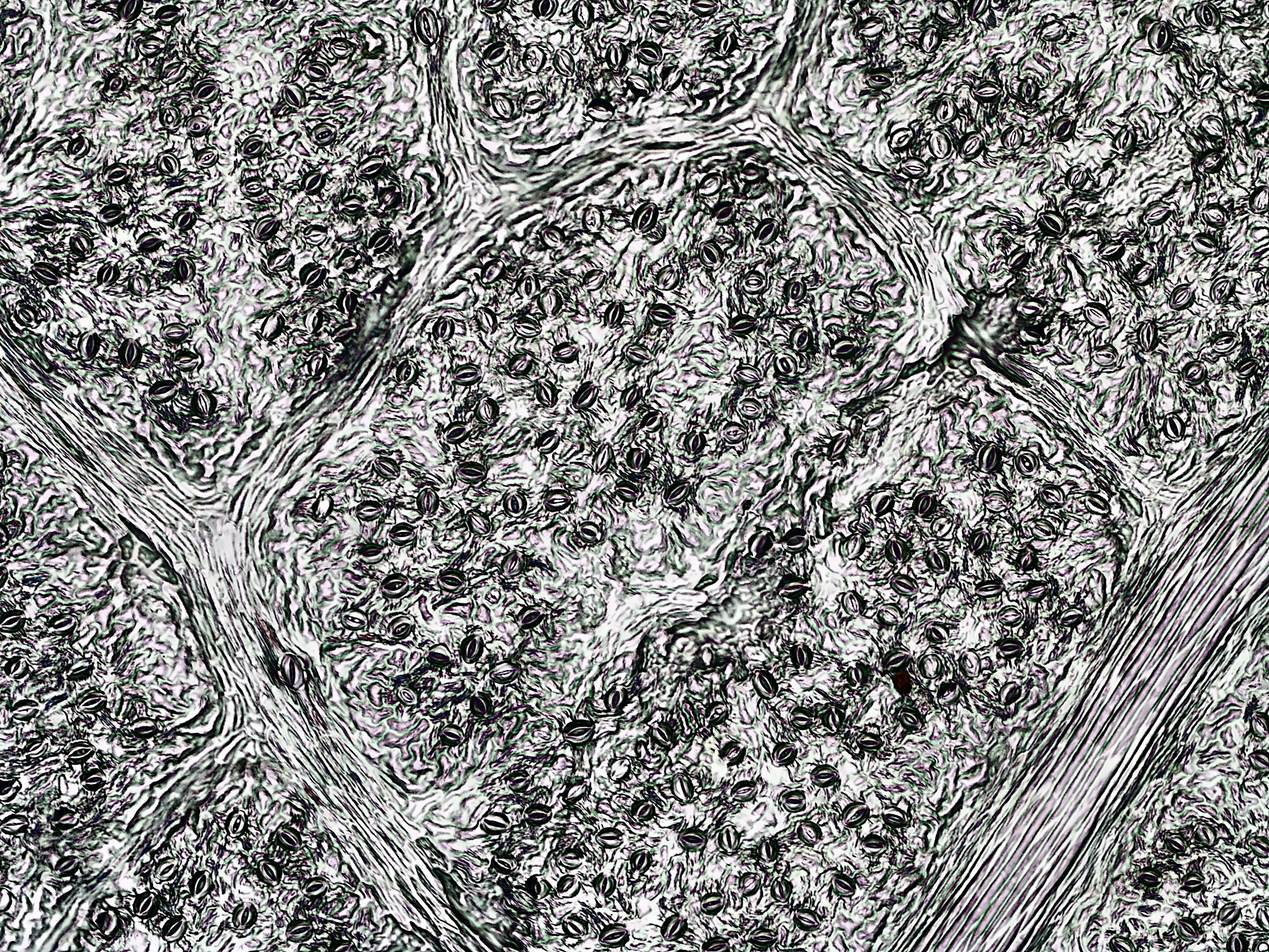stomata: (413, 7, 439, 47), (281, 651, 306, 690), (538, 223, 571, 251), (776, 574, 811, 600), (742, 529, 772, 559), (644, 301, 677, 328), (189, 388, 217, 419), (958, 132, 986, 163), (633, 202, 659, 235), (466, 508, 494, 538), (930, 94, 958, 124), (414, 484, 441, 515), (1161, 409, 1187, 441), (1199, 0, 1224, 33), (1151, 21, 1175, 55), (575, 516, 603, 545), (380, 571, 409, 599), (256, 859, 283, 889), (658, 914, 688, 941), (489, 660, 520, 686), (925, 126, 948, 161), (555, 874, 580, 906), (151, 2, 184, 26), (977, 439, 1001, 472), (436, 568, 470, 591), (1171, 279, 1194, 313), (97, 70, 127, 96), (259, 311, 285, 341), (502, 550, 528, 580), (232, 902, 258, 932), (522, 43, 547, 74), (561, 719, 593, 743), (846, 290, 879, 313), (225, 807, 248, 840), (297, 260, 325, 287), (586, 97, 613, 125), (831, 333, 858, 361), (429, 315, 456, 343), (160, 914, 186, 943), (810, 762, 839, 788), (480, 261, 510, 286), (10, 696, 40, 721), (574, 381, 598, 412), (1, 812, 33, 835), (1142, 202, 1174, 225), (119, 338, 143, 368), (300, 875, 330, 899), (158, 60, 189, 83), (30, 262, 61, 285), (76, 692, 107, 715), (930, 0, 961, 23), (633, 844, 655, 876), (1197, 149, 1224, 175), (1179, 358, 1205, 385), (841, 801, 868, 827), (782, 275, 807, 303), (1130, 259, 1155, 287), (769, 740, 797, 765), (512, 315, 541, 339), (518, 93, 551, 114), (481, 43, 511, 66), (584, 203, 607, 233), (442, 420, 472, 443), (673, 771, 695, 802), (1016, 76, 1042, 102), (997, 679, 1023, 705), (376, 185, 401, 212), (755, 218, 780, 245), (665, 481, 692, 506), (892, 571, 917, 598), (917, 654, 944, 679), (64, 134, 92, 158), (312, 122, 340, 146), (354, 158, 386, 179), (539, 287, 563, 315), (128, 714, 160, 735), (21, 737, 53, 758), (286, 921, 314, 945), (520, 602, 548, 626), (597, 924, 629, 945), (1038, 16, 1066, 40), (149, 379, 178, 402), (634, 43, 663, 66), (135, 889, 158, 918), (876, 603, 905, 626), (172, 349, 202, 371), (715, 30, 737, 60), (691, 79, 721, 101), (504, 490, 526, 520), (50, 808, 83, 828), (1211, 275, 1233, 305), (135, 36, 166, 57), (79, 330, 100, 361), (663, 62, 684, 93), (354, 499, 385, 520), (65, 741, 96, 762), (1199, 205, 1230, 226), (96, 262, 121, 288), (368, 228, 394, 253), (651, 720, 676, 746), (1193, 232, 1219, 257), (1038, 210, 1064, 235), (882, 536, 907, 562), (253, 215, 280, 239), (70, 231, 93, 259), (676, 826, 704, 849), (564, 779, 592, 802), (175, 254, 195, 286), (1003, 121, 1023, 153), (192, 80, 221, 102), (336, 194, 365, 216), (555, 48, 577, 77), (425, 642, 454, 664), (859, 15, 888, 37), (1085, 493, 1114, 515), (452, 363, 482, 384), (461, 632, 482, 662), (1115, 125, 1136, 155), (173, 206, 198, 231), (791, 703, 816, 728), (797, 821, 822, 846), (300, 169, 324, 195), (504, 767, 530, 791), (524, 874, 548, 900), (752, 671, 776, 697), (1176, 915, 1200, 941), (265, 247, 292, 270), (916, 28, 939, 55), (1210, 328, 1237, 351), (779, 788, 806, 811), (915, 487, 935, 518), (531, 0, 559, 22), (777, 353, 799, 381), (276, 826, 304, 848), (969, 527, 991, 555), (975, 577, 1003, 599), (103, 162, 132, 183), (191, 870, 212, 899), (796, 909, 825, 930), (751, 927, 780, 948), (881, 804, 910, 825), (996, 636, 1025, 657), (357, 541, 389, 560), (595, 441, 614, 473), (651, 9, 676, 33), (607, 41, 627, 71), (583, 267, 608, 291), (0, 606, 25, 630), (591, 872, 615, 897), (1014, 449, 1039, 473), (128, 273, 151, 299), (736, 361, 762, 384), (3, 656, 29, 679), (1063, 162, 1086, 188), (240, 137, 267, 159), (284, 83, 306, 110), (656, 262, 678, 289), (862, 829, 884, 856), (191, 146, 219, 167), (49, 612, 77, 633), (524, 803, 552, 824), (847, 659, 868, 687), (696, 173, 725, 193), (1052, 115, 1072, 144), (740, 395, 764, 419), (155, 859, 179, 883), (701, 891, 725, 915), (329, 35, 354, 58), (711, 201, 736, 224), (627, 446, 650, 471), (733, 778, 756, 803), (926, 548, 951, 571), (571, 1, 593, 27), (789, 326, 811, 352), (483, 812, 509, 834), (790, 642, 812, 668), (927, 619, 949, 645), (314, 490, 333, 520), (186, 116, 213, 137), (308, 351, 329, 378), (628, 75, 655, 96), (490, 92, 511, 119), (729, 312, 756, 333), (780, 531, 807, 552), (741, 160, 769, 180), (518, 275, 538, 303), (536, 379, 556, 407), (614, 481, 642, 501), (610, 756, 630, 784), (854, 730, 885, 748), (304, 224, 328, 247), (392, 521, 415, 545), (639, 409, 663, 432), (980, 491, 1009, 510), (722, 420, 747, 442), (705, 700, 730, 722), (158, 153, 179, 179), (396, 357, 417, 383), (534, 431, 560, 452), (977, 81, 1003, 102), (873, 488, 894, 514), (998, 605, 1024, 626), (702, 242, 722, 269), (455, 463, 485, 481), (544, 489, 571, 509), (865, 70, 892, 90), (1090, 345, 1120, 363), (831, 875, 858, 895), (1249, 748, 1269, 775), (743, 272, 766, 295), (1085, 300, 1108, 323), (98, 910, 120, 934), (386, 614, 410, 636), (397, 684, 419, 708), (440, 724, 464, 746), (1006, 248, 1030, 270), (1098, 239, 1123, 260), (825, 705, 843, 734), (491, 851, 517, 871), (1018, 548, 1038, 574), (136, 231, 163, 250), (0, 774, 19, 801), (1032, 518, 1059, 537), (720, 824, 737, 854), (561, 919, 583, 942), (891, 128, 914, 150), (1202, 115, 1224, 138), (863, 407, 885, 430), (307, 60, 331, 81), (627, 342, 651, 363), (476, 399, 497, 423), (630, 801, 654, 822), (1059, 606, 1083, 627), (1251, 712, 1269, 740), (902, 158, 927, 178), (1038, 486, 1063, 506), (841, 533, 861, 558), (607, 299, 623, 330), (701, 936, 732, 952), (597, 828, 623, 847), (1134, 865, 1160, 884), (304, 305, 321, 334), (1198, 65, 1215, 94), (1252, 184, 1269, 213), (98, 205, 125, 223), (469, 692, 487, 719), (739, 871, 760, 894), (1218, 902, 1241, 923), (687, 0, 724, 13), (775, 874, 791, 904), (476, 307, 495, 332), (511, 349, 530, 374), (243, 175, 265, 196), (722, 741, 743, 763), (902, 708, 925, 728), (1020, 328, 1044, 347), (937, 681, 961, 700), (13, 306, 38, 324), (685, 430, 703, 455), (342, 611, 367, 629), (1024, 580, 1049, 598), (624, 382, 640, 410), (844, 589, 860, 617), (164, 324, 190, 341), (606, 686, 623, 712), (1018, 299, 1044, 316), (883, 651, 909, 668), (56, 855, 77, 876), (160, 106, 180, 128), (338, 252, 360, 272), (1237, 356, 1257, 378), (959, 651, 979, 673), (117, 0, 140, 19), (376, 459, 400, 476), (829, 434, 845, 459), (564, 847, 583, 868), (758, 837, 776, 859), (67, 660, 95, 674), (340, 291, 357, 314), (33, 215, 59, 230), (479, 0, 511, 12), (81, 772, 105, 788), (1141, 321, 1154, 350), (554, 343, 579, 358), (1182, 875, 1205, 891), (608, 0, 633, 14), (1110, 937, 1133, 952), (1252, 837, 1269, 857), (1198, 825, 1213, 847), (969, 0, 986, 19), (1227, 933, 1244, 952), (1256, 84, 1269, 108), (1257, 905, 1269, 931), (1169, 835, 1187, 852), (262, 0, 287, 11)
